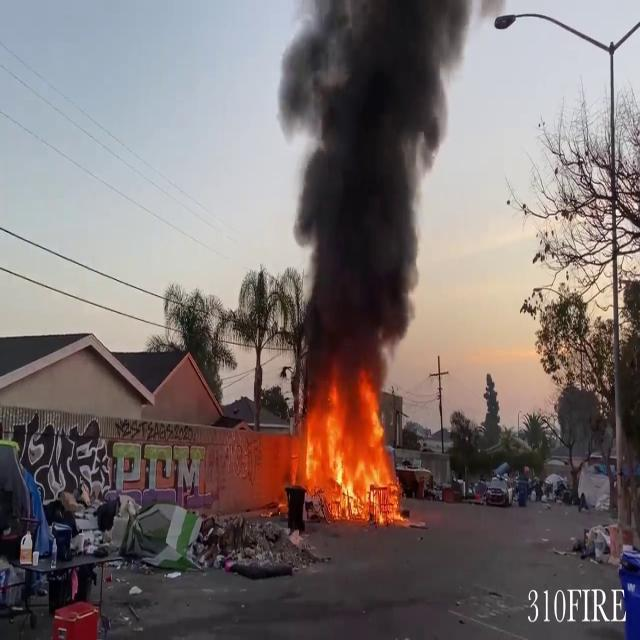Fire: (284, 378, 406, 523)
Smoke: (277, 0, 462, 382)
